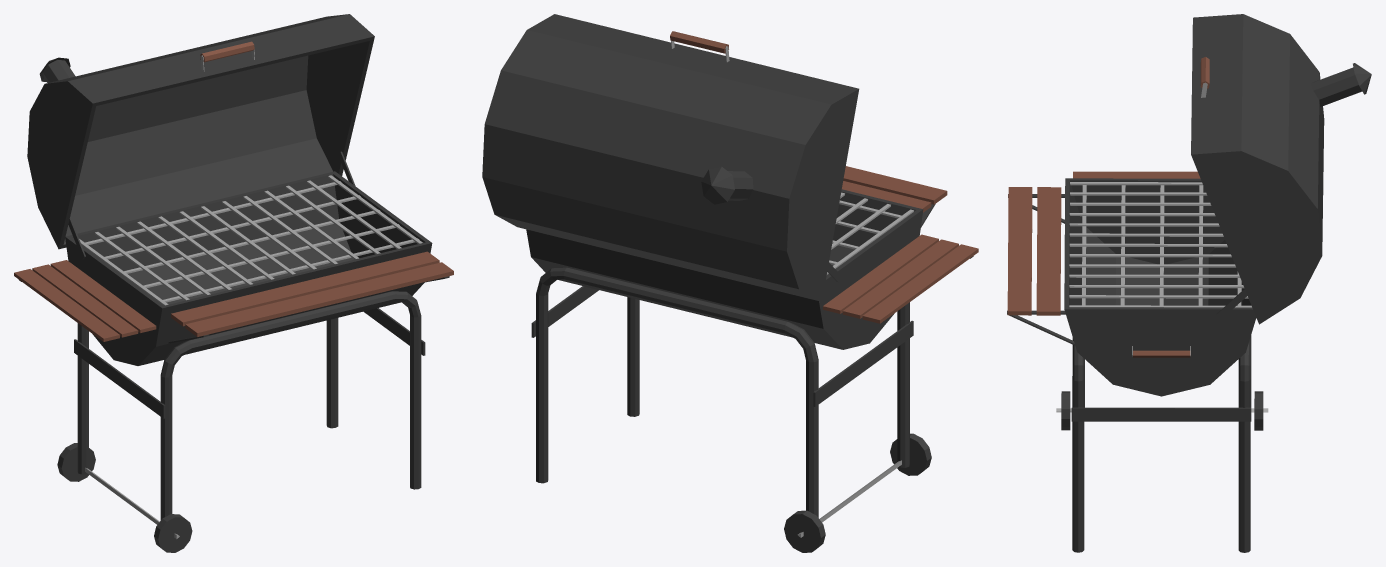
The model's file is Grill_Brown_vc.fbx.
The picture shows the model from 3 angles, left to right: view 1: azimuth 30°, elevation 25°; view 2: azimuth 150°, elevation 25°; view 3: azimuth 270°, elevation 25°; orthographic projection. The views are drawn at different scales.
Parts seen in each view (by area): view 1: Grill_Brown_vc; view 2: Grill_Brown_vc; view 3: Grill_Brown_vc.
Part boxes in pixels (x1,y1,x2,y2): Grill_Brown_vc: [14, 14, 453, 552]; Grill_Brown_vc: [482, 14, 978, 552]; Grill_Brown_vc: [1007, 14, 1371, 552].
Size of the model in its own units: 401 by 478 by 375.
